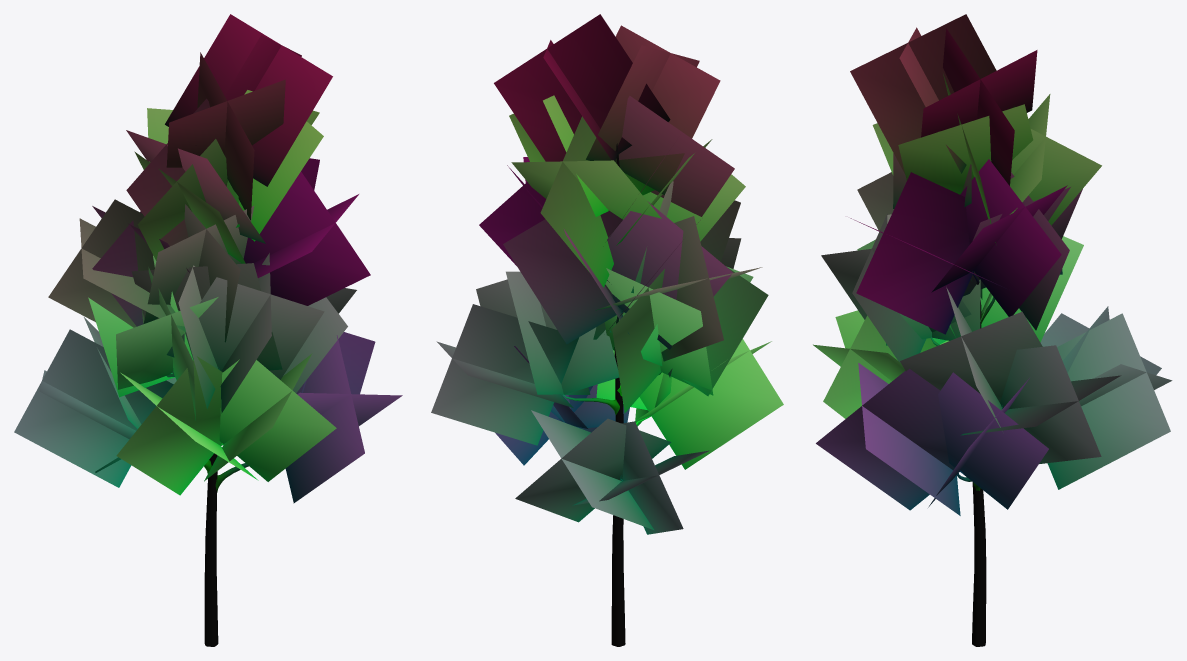
File: M_P12_Tree_14.fbx
3 renders of one model, left to right at view 1: azimuth 30°, elevation 25°; view 2: azimuth 150°, elevation 25°; view 3: azimuth 270°, elevation 25°, orthographic. The views are drawn at different scales.
Visible parts, largest first — view 1: Tree_14; view 2: Tree_14; view 3: Tree_14.
Part boxes in pixels (x1,y1,x2,y2): Tree_14: [14, 14, 402, 646]; Tree_14: [431, 14, 783, 646]; Tree_14: [813, 14, 1172, 646].
Bounding box in the file's own units: 179 × 355 × 183.
